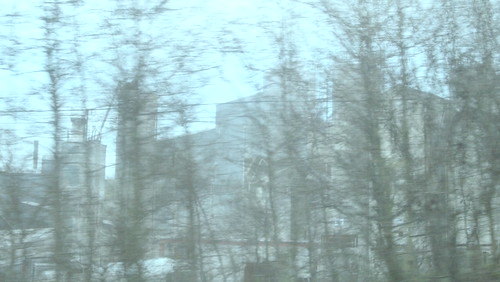vegetation: (2, 4, 489, 277)
